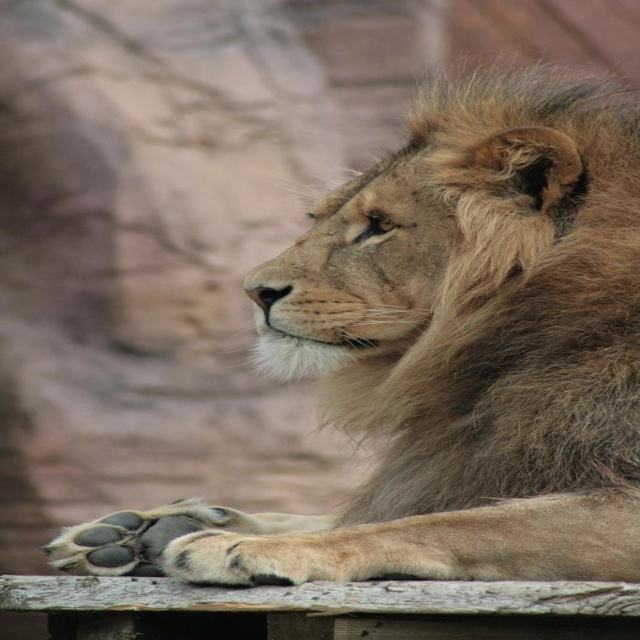Lion: (37, 50, 639, 584)
